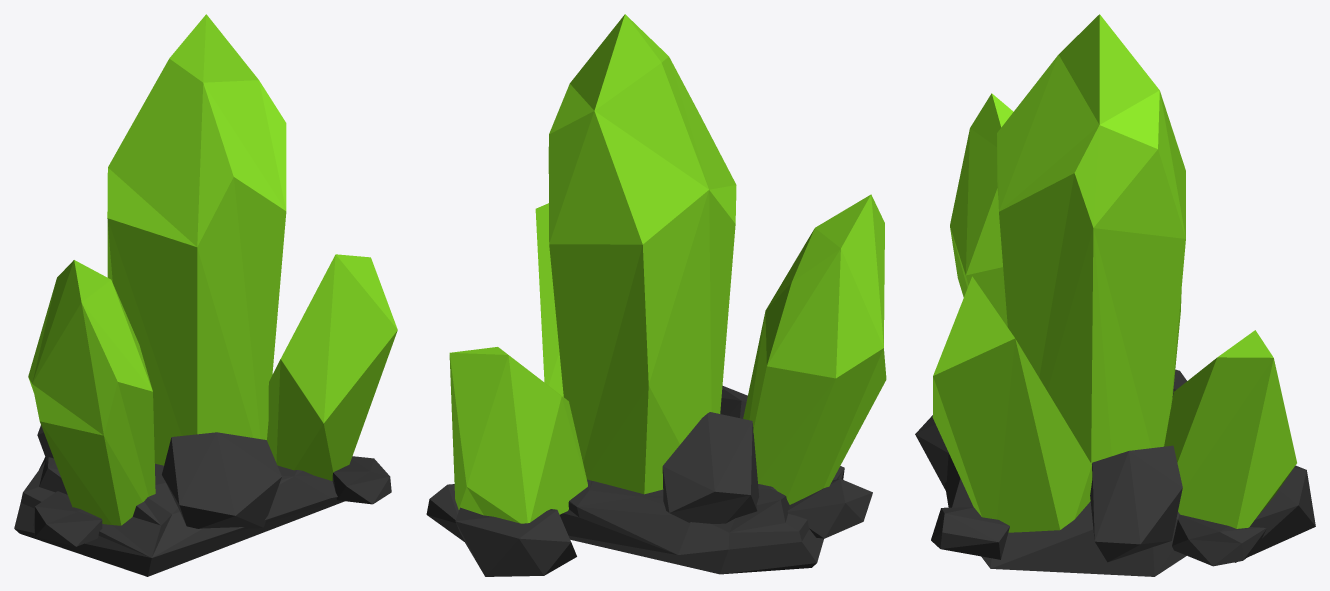
File: Gem_05.FBX
3 renders of one model, left to right at view 1: azimuth 30°, elevation 25°; view 2: azimuth 150°, elevation 25°; view 3: azimuth 270°, elevation 25°, orthographic. The views are drawn at different scales.
Visible parts, largest first — view 1: Gem_05; view 2: Gem_05; view 3: Gem_05.
Boxes of the visible parts, x1=… form: Gem_05: x1=14, y1=14, x2=397, y2=576; Gem_05: x1=426, y1=14, x2=886, y2=576; Gem_05: x1=915, y1=14, x2=1315, y2=576.
Bounding box in the file's own units: 49.8 × 67.11 × 47.72.
